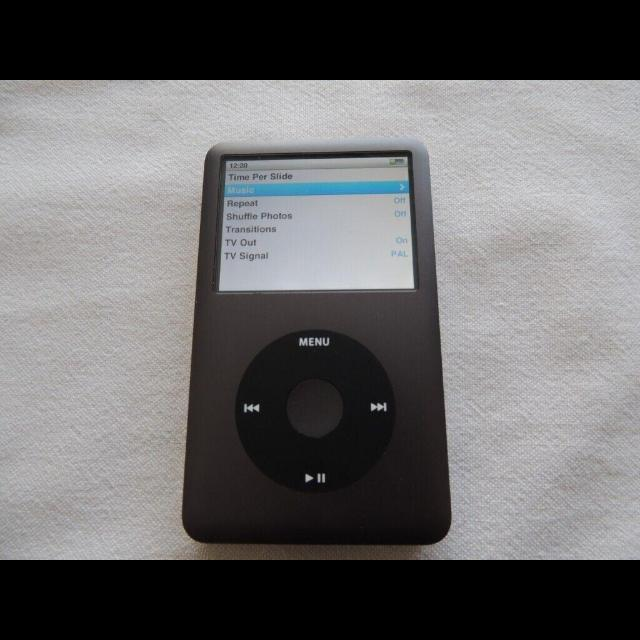Music-Player: (175, 132, 458, 558)
